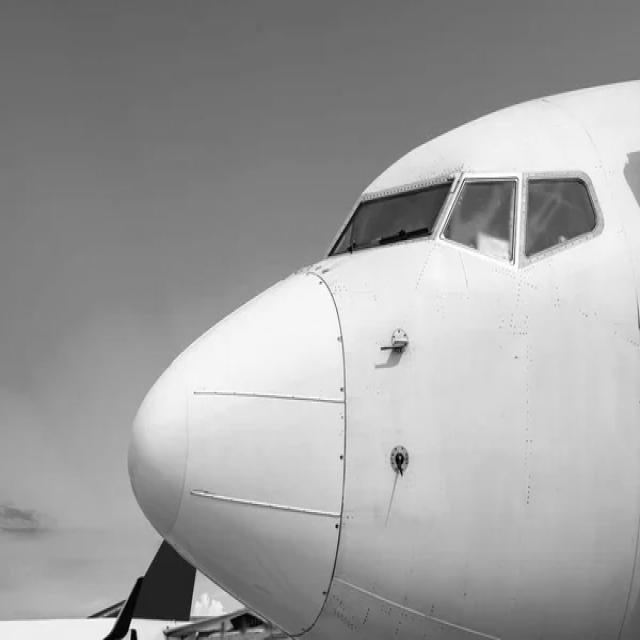Aircraft: (127, 69, 639, 640)
